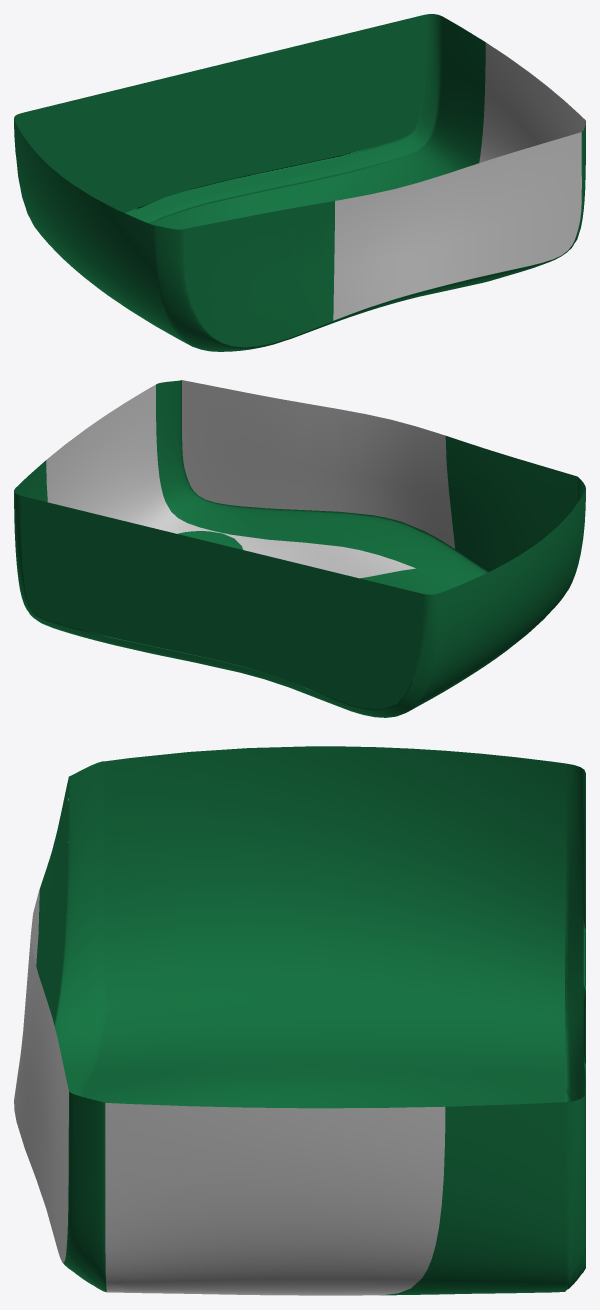
The model's file is newtim.obj.
3 renders of one model, top to bottom at view 1: azimuth 30°, elevation 25°; view 2: azimuth 150°, elevation 25°; view 3: azimuth 270°, elevation 25°, orthographic. The views are drawn at different scales.
Parts seen in each view (by area): view 1: LOWER-BODY, UPGRIP, MAIN-BODY, UPPER-BODY, SNAPBUTTON; view 2: LOWER-BODY, UPGRIP, UPPER-BODY, MAIN-BODY, SNAPBUTTON; view 3: MAIN-BODY, UPGRIP, UPPER-BODY, LOWER-BODY, BUTTONS, SNAPBUTTON.
Part boxes in pixels (<box>): LOWER-BODY: <box>21,14,442,220</box>; UPGRIP: <box>333,42,585,320</box>; MAIN-BODY: <box>14,17,485,345</box>; UPPER-BODY: <box>153,121,585,351</box>; SNAPBUTTON: <box>213,247,274,309</box>; LOWER-BODY: <box>14,489,422,708</box>; UPGRIP: <box>46,380,454,578</box>; UPPER-BODY: <box>156,380,585,586</box>; MAIN-BODY: <box>15,460,585,717</box>; SNAPBUTTON: <box>498,490,552,550</box>; MAIN-BODY: <box>82,746,585,1295</box>; UPGRIP: <box>14,890,445,1295</box>; UPPER-BODY: <box>36,761,106,1292</box>; LOWER-BODY: <box>565,1080,585,1291</box>; BUTTONS: <box>376,1075,463,1107</box>; SNAPBUTTON: <box>50,865,62,972</box>.
Size of the model in its own units: 78.39 by 26.74 by 52.36.
